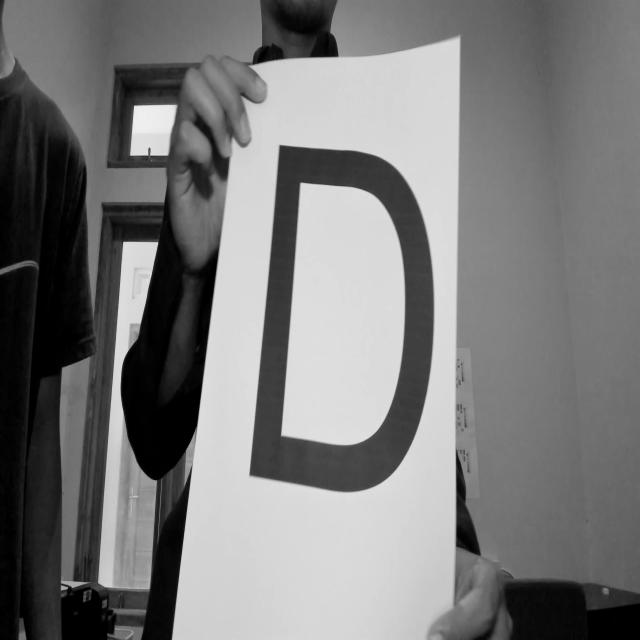d: (245, 114, 438, 520)
